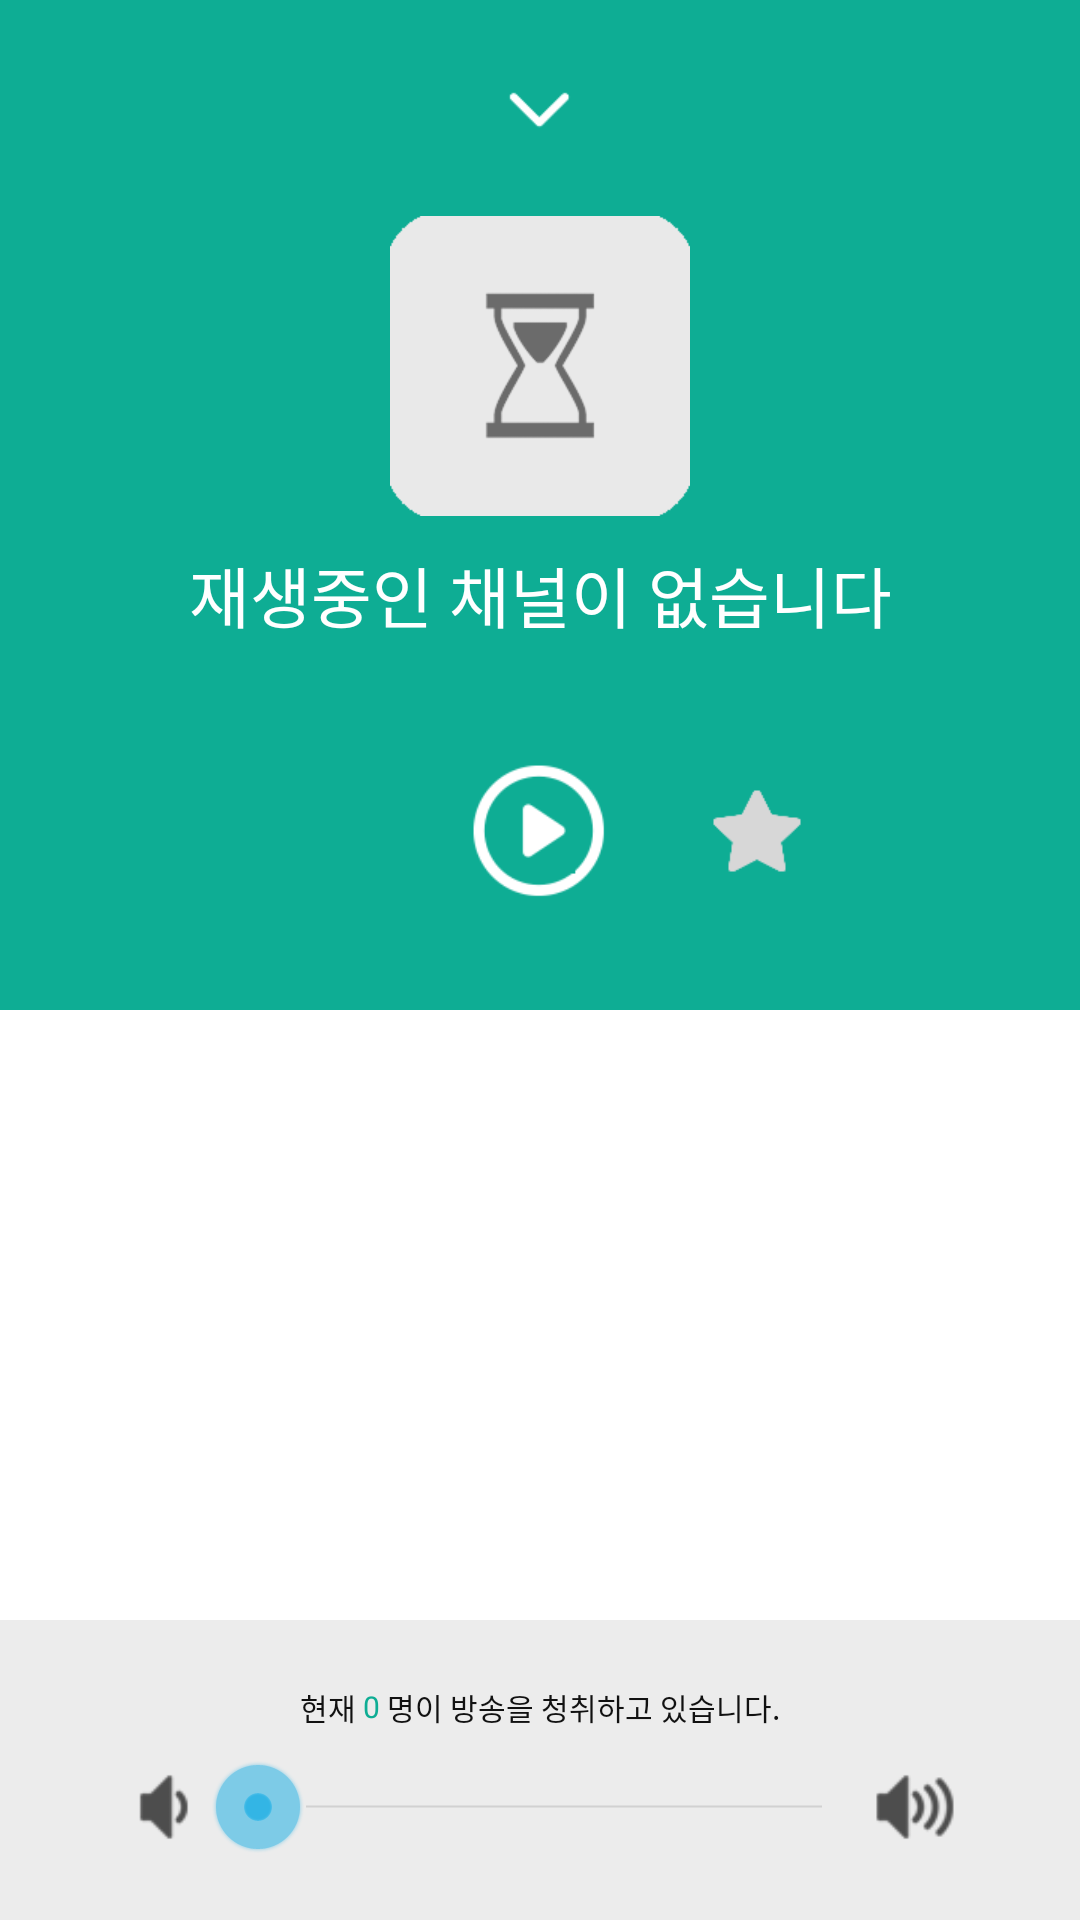

Named icons in this screenshot (1080×1920) and their bounding boxes, (x1, y1, x2, y2):
arrow down: (509, 92, 569, 127)
hour glass: (390, 216, 690, 516)
sound down: (140, 1775, 188, 1839)
sound up: (876, 1775, 954, 1839)
